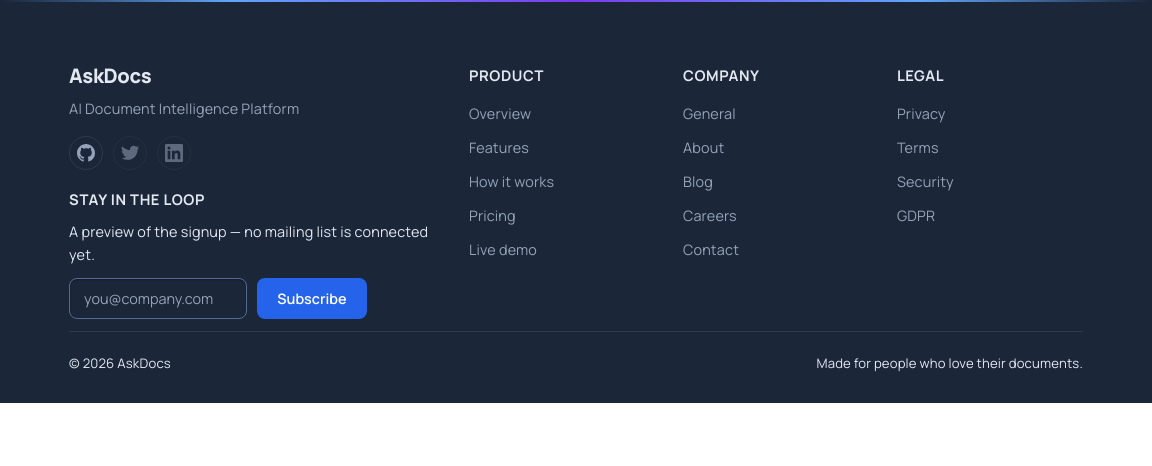
it: LandingFooter newsletter submit › reports the outcome and clears the field when the address looks valid
Step 1. Type "reader@example.com" into the field named "email" → point(158, 298), box [69, 278, 247, 319]
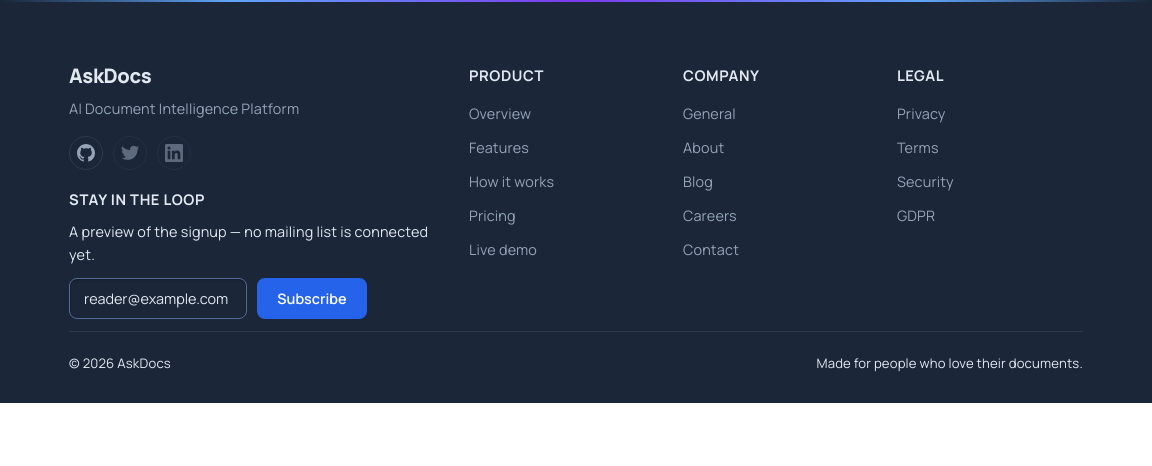
Step 2. Submit the form with class "newsletter", box [69, 188, 441, 331]
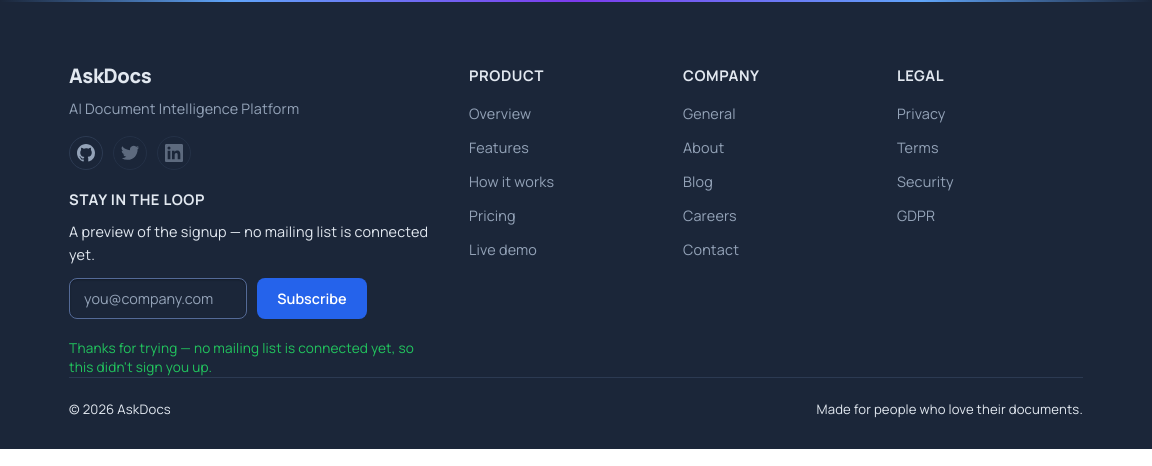
Expected: the message with class "newsletter-status" shows "Thanks for trying — no mailing list is connected yet, so this didn't sign you up.", [69, 339, 414, 376]
Expected: the field named "email" is empty, [69, 278, 247, 319]
